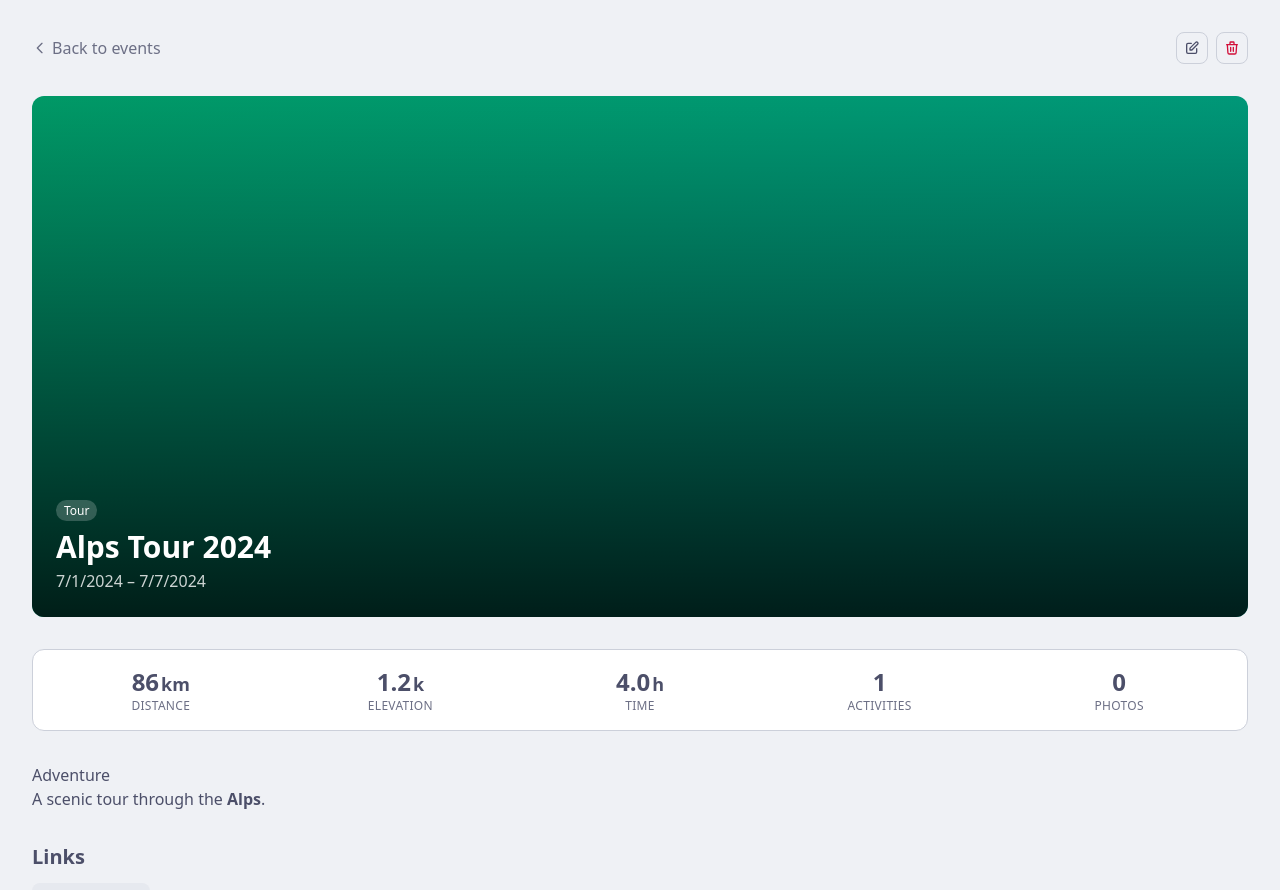
EventDetailPage › Delete Event › shows confirmation dialog when delete button clicked
Expected: the heading "Alps Tour 2024" is shown, [56,526,271,567]
Click the button named "Delete".
click(1232, 48)  # box [1216,32,1248,64]
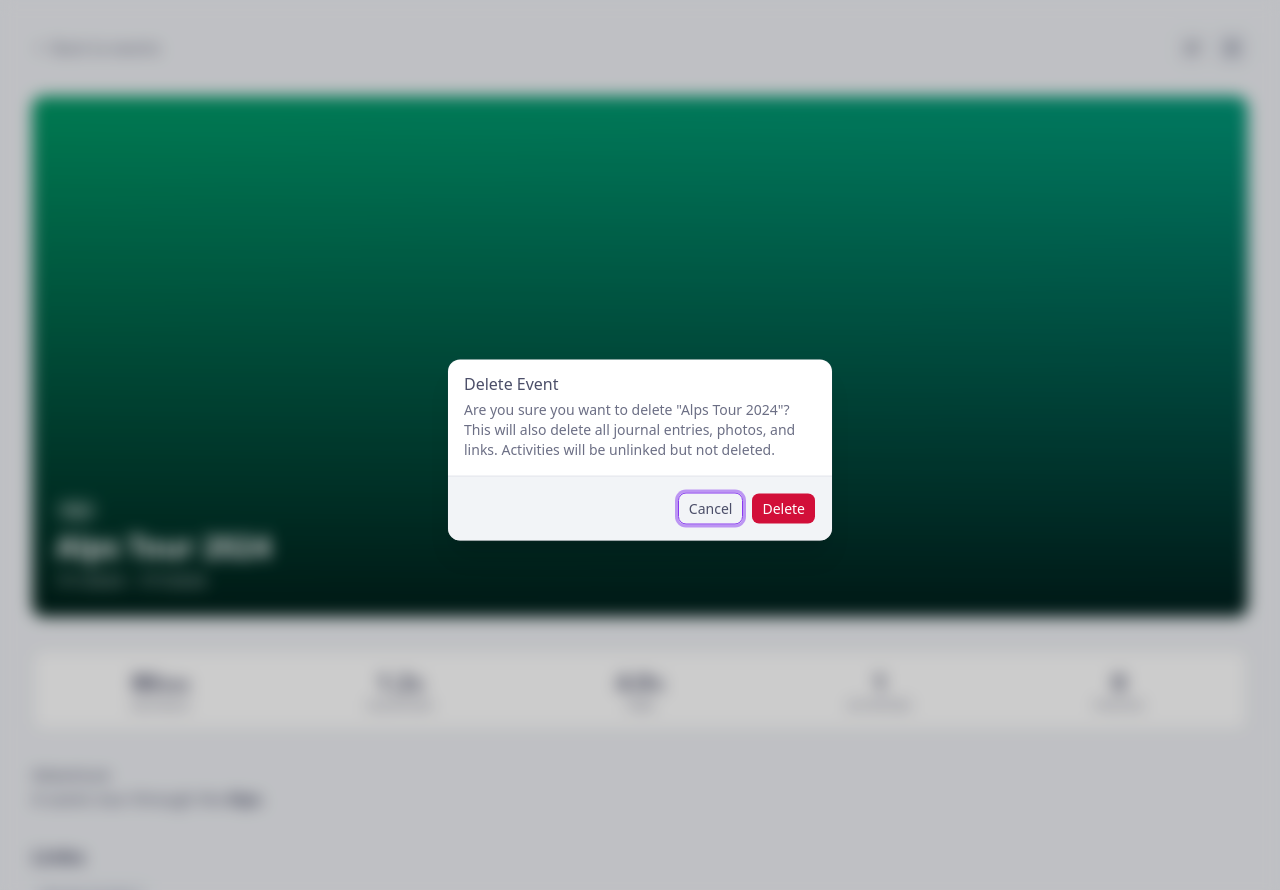
Expected: the heading "Delete Event" is shown, [464,372,558,394]
Expected: the text "Are you sure" is shown, [464,400,681,418]
